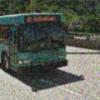buses: (0, 11, 68, 75)
